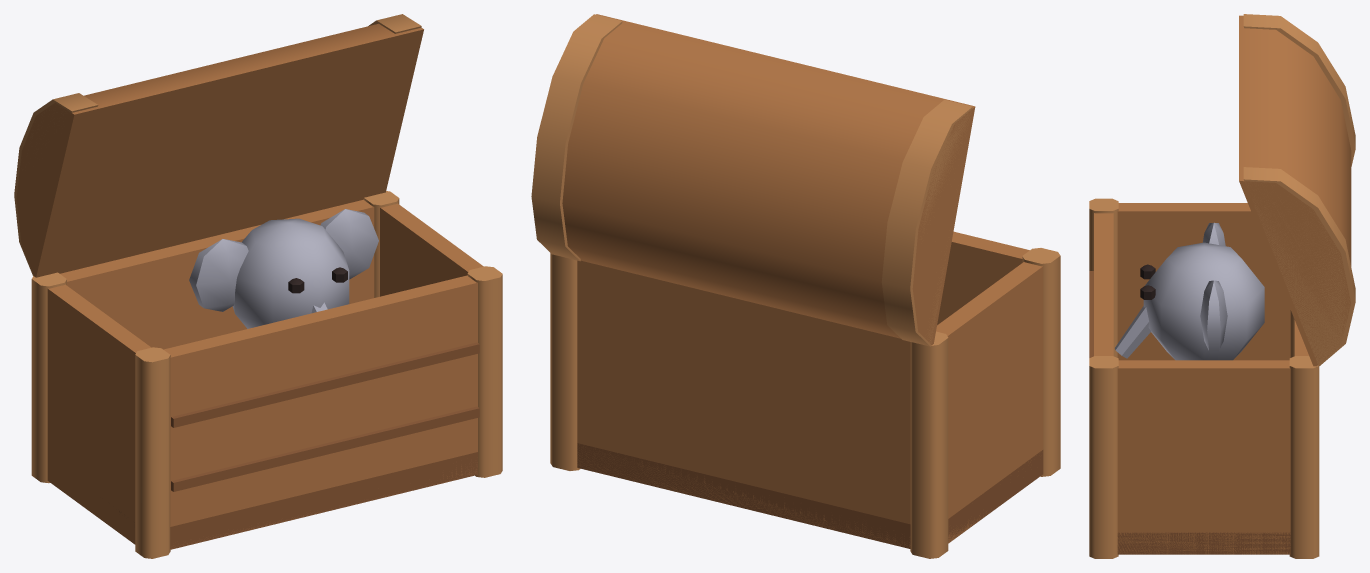
The model's file is toy_chest.glb.
3 renders of one model, left to right at view 1: azimuth 30°, elevation 25°; view 2: azimuth 150°, elevation 25°; view 3: azimuth 270°, elevation 25°, orthographic. The views are drawn at different scales.
Parts seen in each view (by area): view 1: toy_chest, lid; view 2: toy_chest, lid; view 3: toy_chest, lid.
Part boxes in pixels (x1,y1,x2,y2): toy_chest: (31,191,502,558); lid: (14,14,423,277); toy_chest: (550,231,1060,558); lid: (531,14,975,346); toy_chest: (1089,198,1319,558); lid: (1239,14,1355,366).
Size of the model in its own units: 0.82 by 0.8513 by 0.5449.
Materials: 1 (1 with a texture image).
